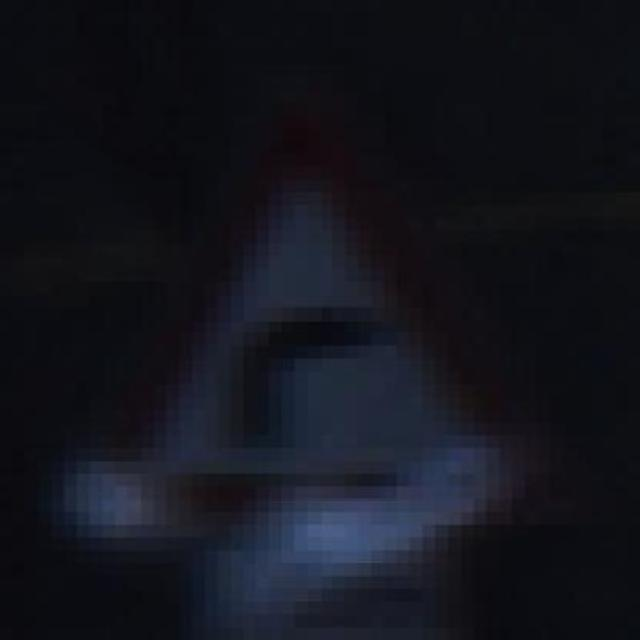Dangerous Rright Curve Ahead: (102, 90, 500, 512)
